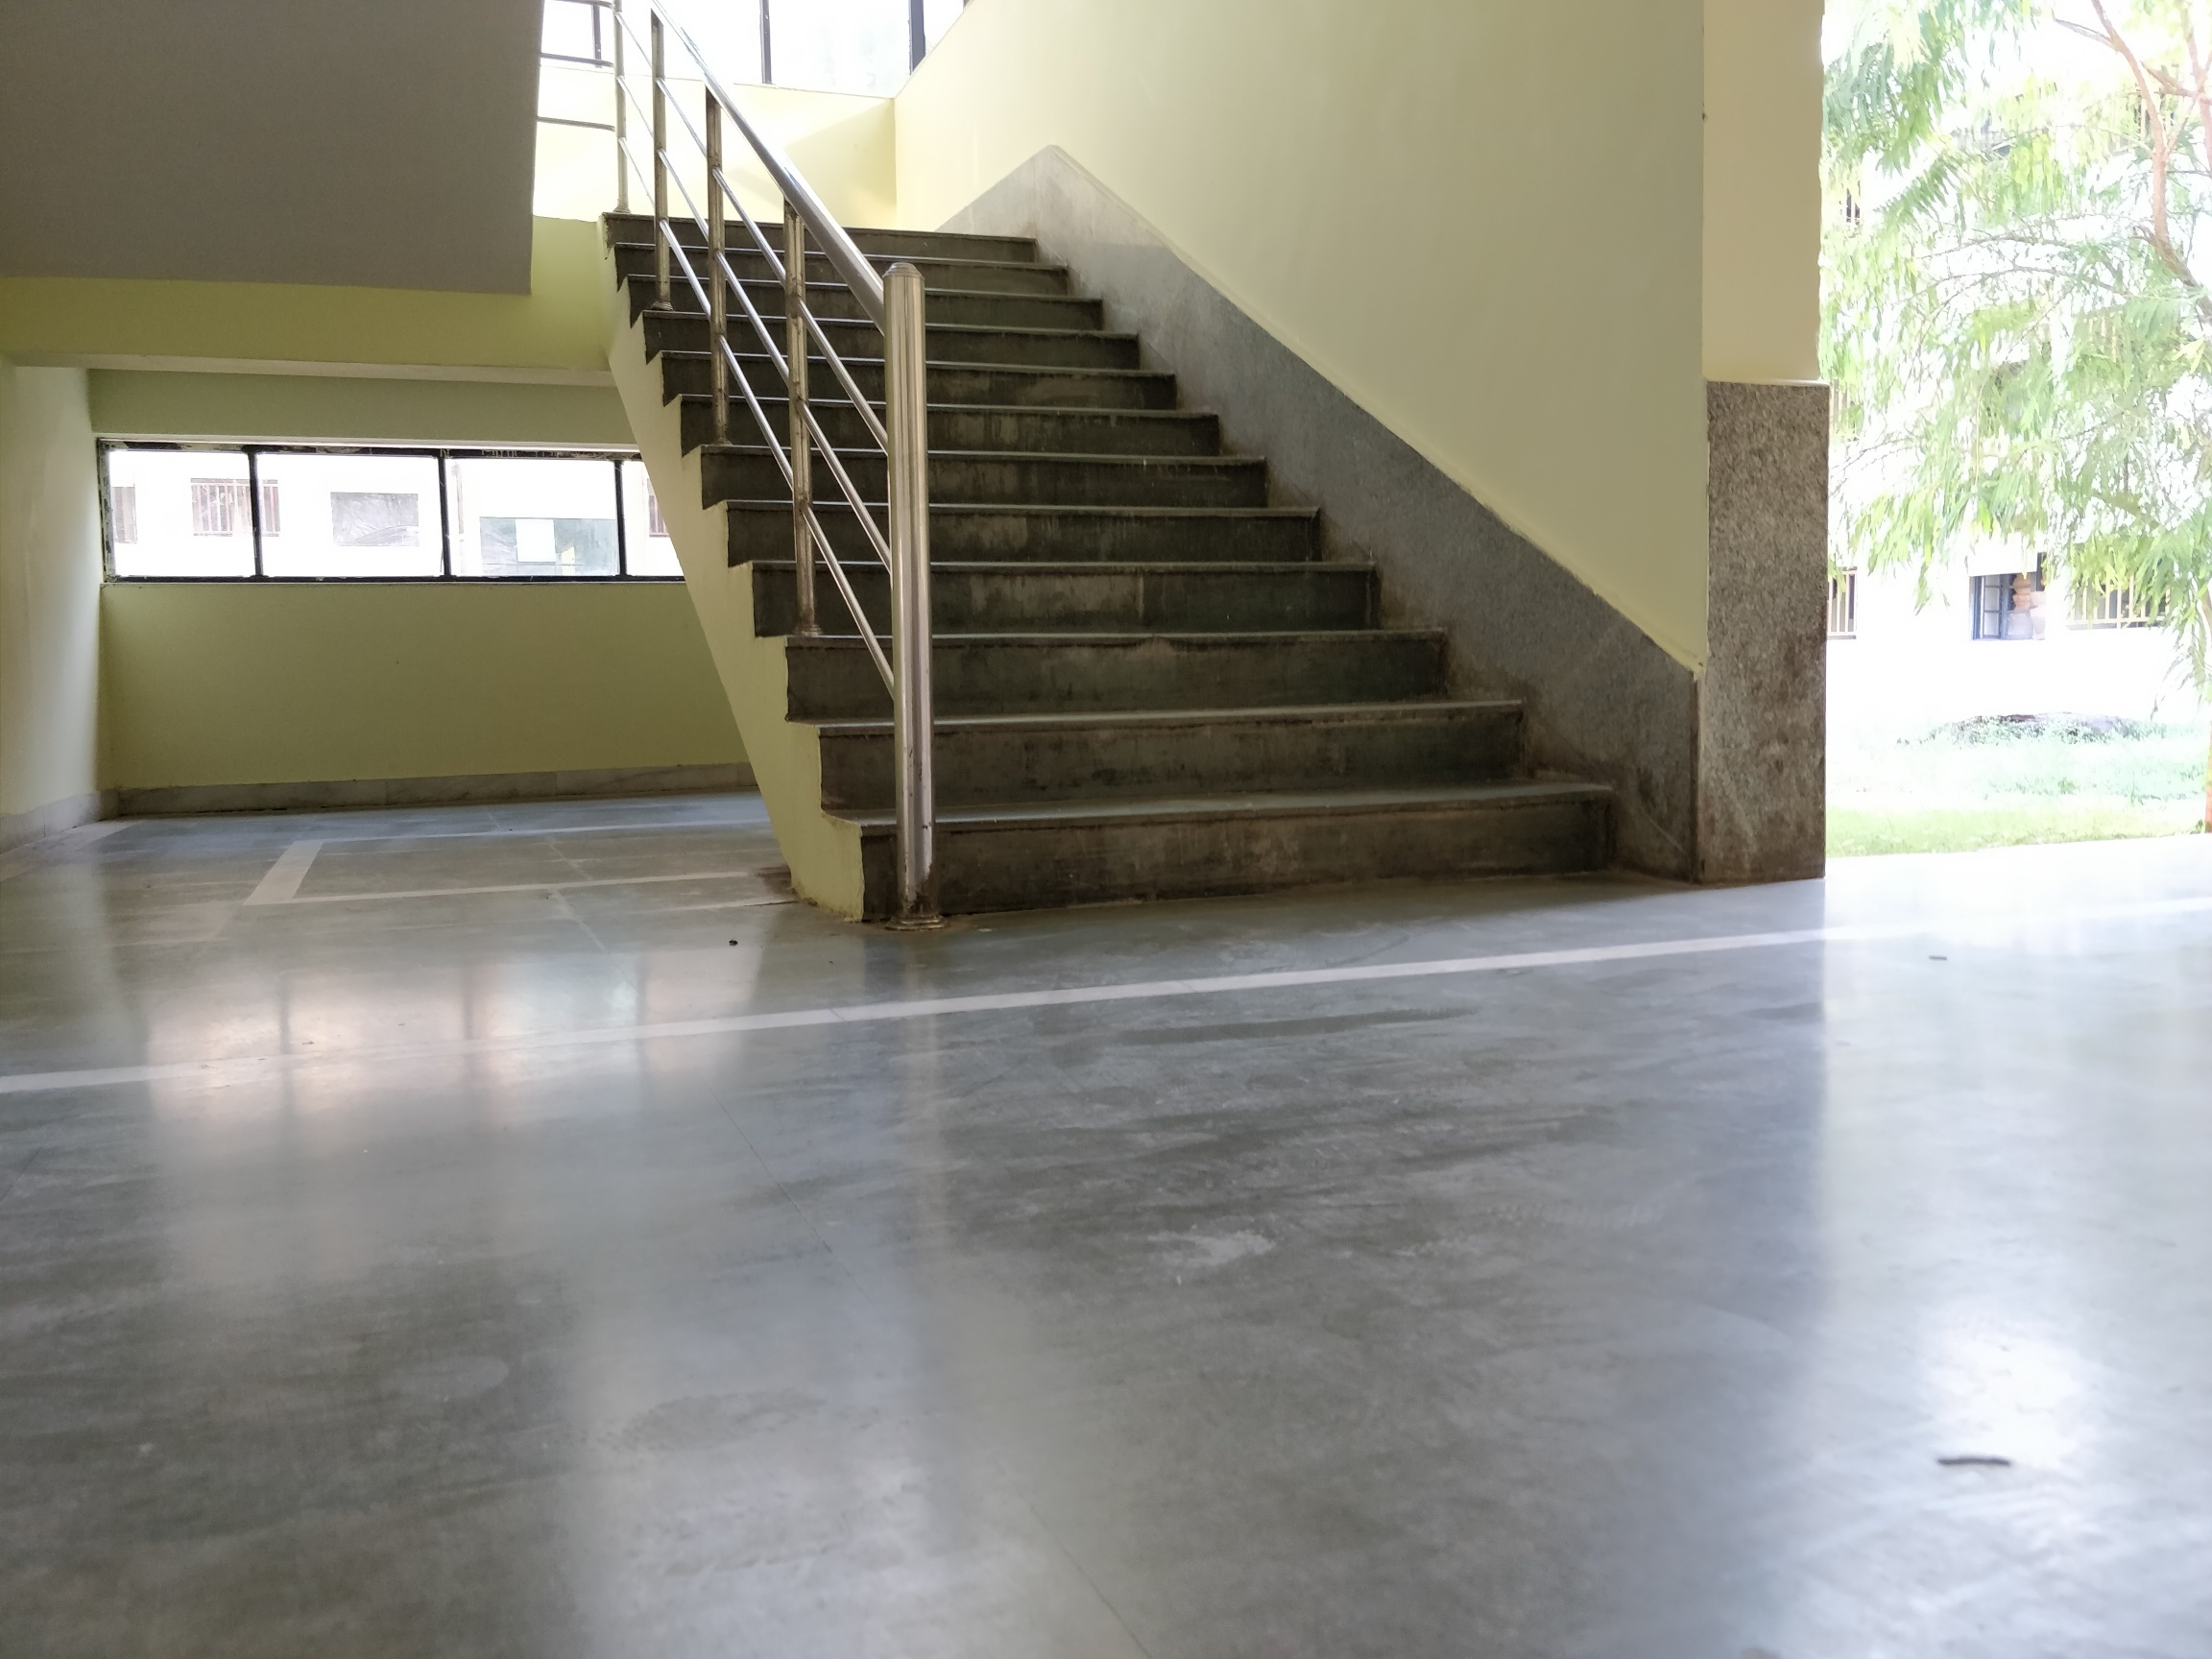stairs_up: (653, 223, 1615, 861)
